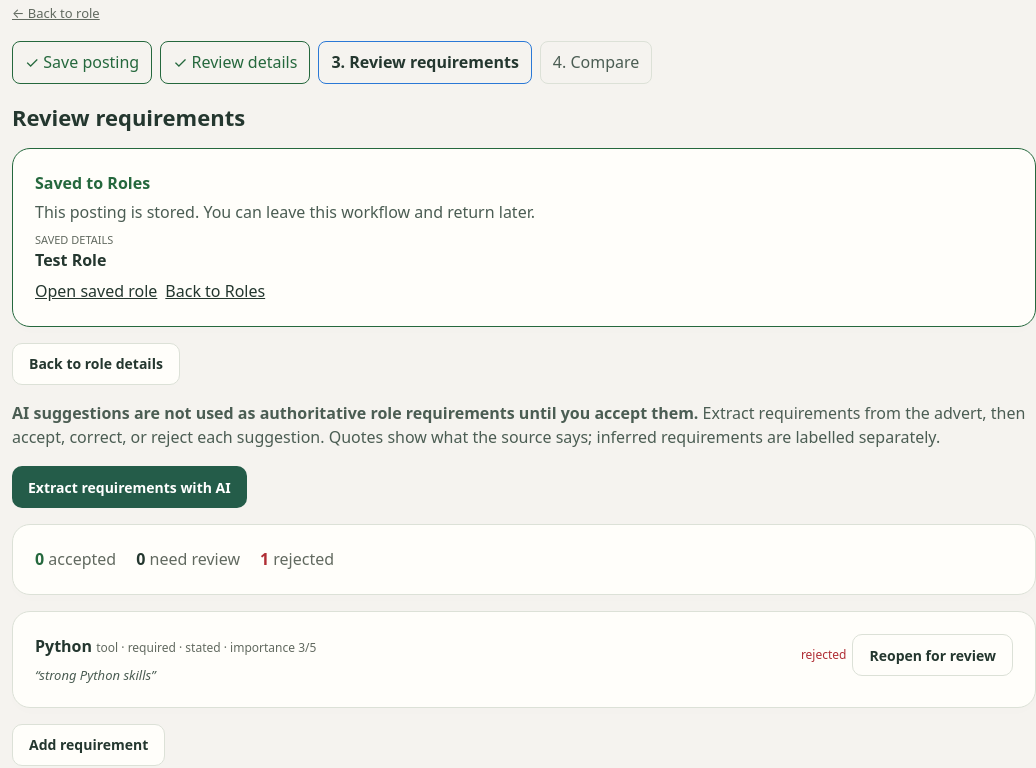
Test: accepted and rejected rows › a rejected row can be reopened for review
Click the button "Reopen for review" at x=933, y=655, box [852, 634, 1013, 676]
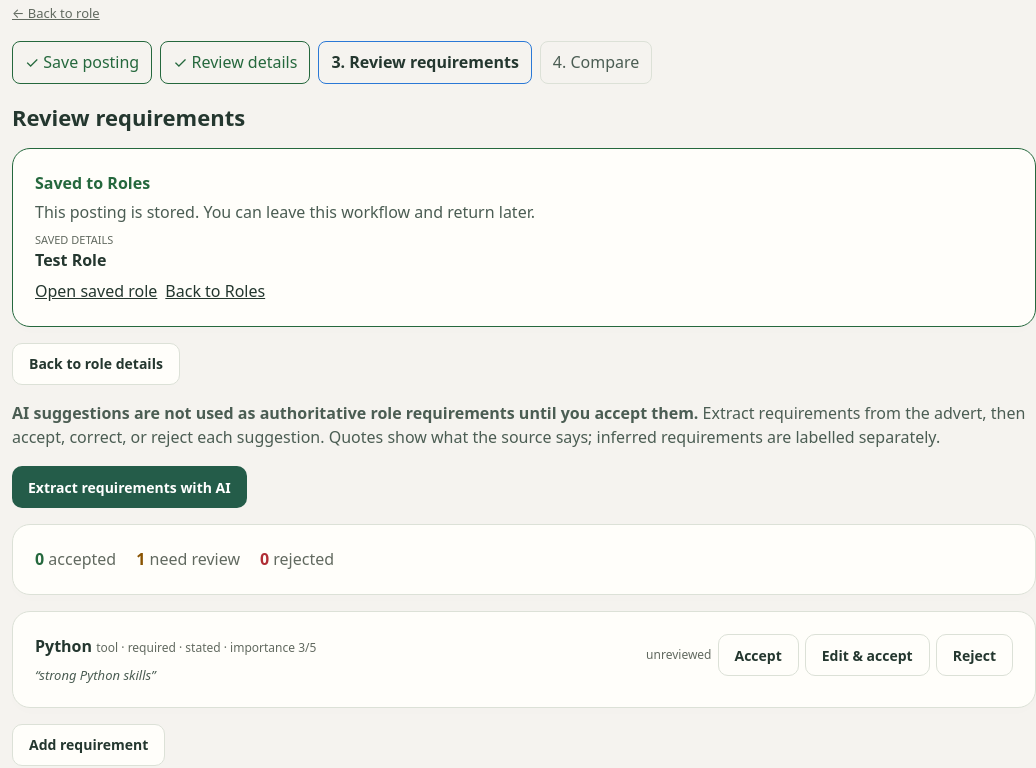
Now the button "Accept" is shown, box [718, 634, 799, 676]
